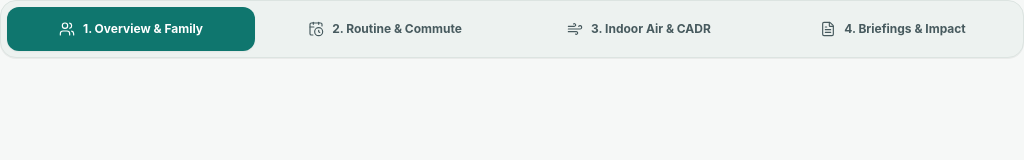
Test case: DashboardShell Component › switches to Indoor Air & CADR tab on click
Click the tab "3. Indoor Air & CADR". click: [639, 29]
box: [515, 7, 763, 51]
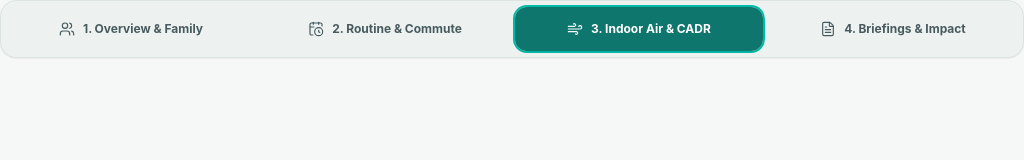
Expected: the tab "3. Indoor Air & CADR" is selected, [515, 7, 763, 51]
